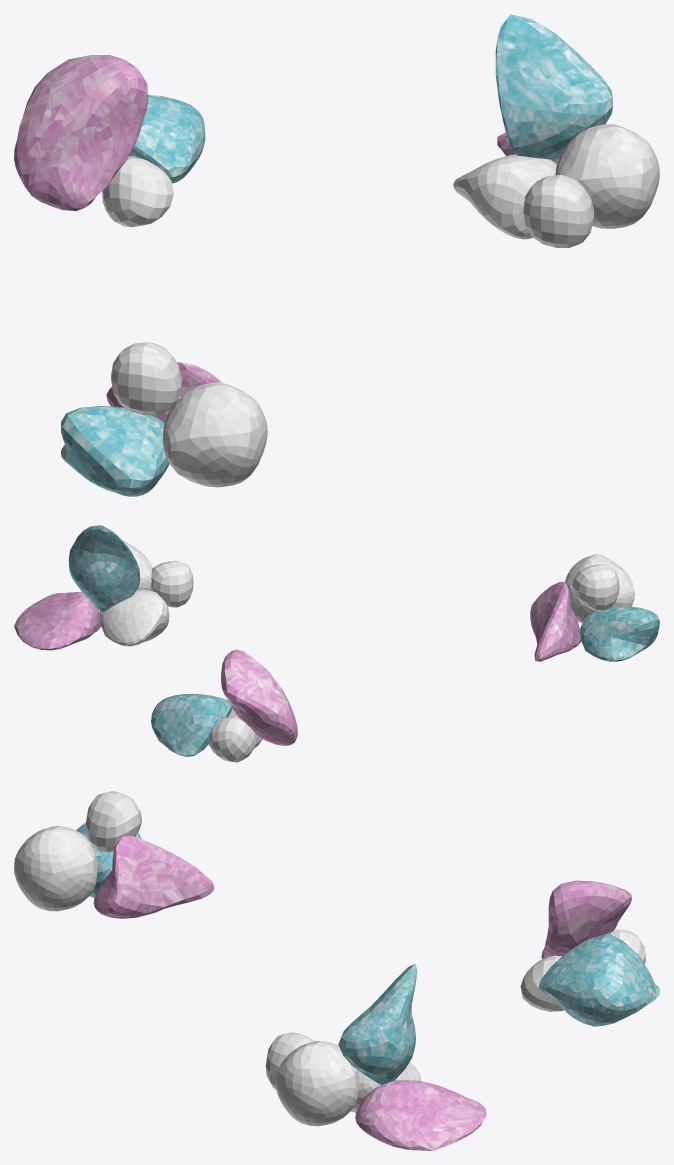
File: Rock2.obj
3 views of the same model, one above another, from view 1: azimuth 30°, elevation 25°; view 2: azimuth 150°, elevation 25°; view 3: azimuth 270°, elevation 25° (orthographic). The views are drawn at different scales.
Visible parts, largest first — view 1: Icosphere.011; view 2: Icosphere.011; view 3: Icosphere.011.
Boxes of the visible parts, box(x1,y1,x2,y2) form: Icosphere.011: box(14, 14, 659, 496); Icosphere.011: box(14, 525, 659, 762); Icosphere.011: box(14, 791, 659, 1150).
Bounding box in the file's own units: 13.74 × 3.46 × 12.5.
